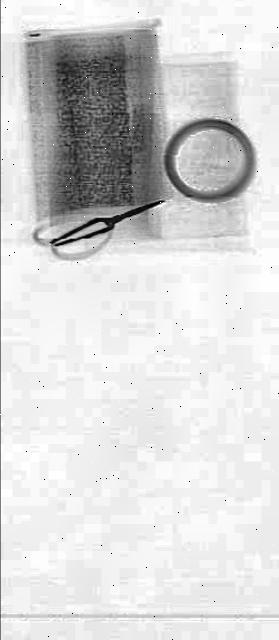Scissors: (32, 176, 168, 282)
